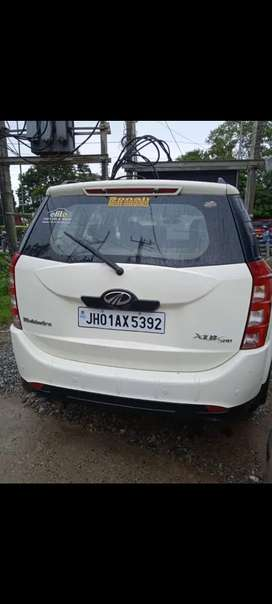JH01AX5392: (78, 306, 165, 332)
